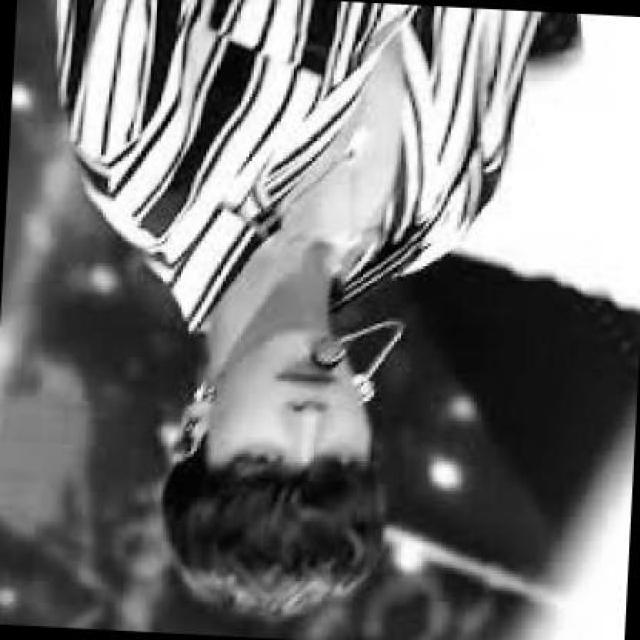earphone: (160, 398, 210, 457)
